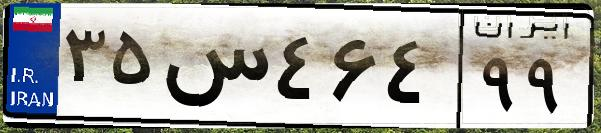3: (57, 26, 110, 100)
4: (270, 28, 330, 110), (385, 28, 445, 110)
5: (110, 28, 158, 98)
6: (330, 28, 385, 110)
9: (475, 38, 525, 113), (525, 38, 570, 115)
س: (158, 20, 270, 120)
